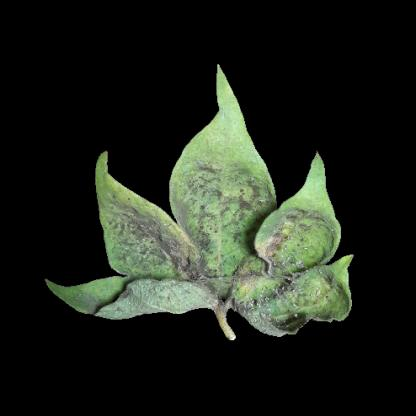curl_stage1: (210, 121, 249, 164), (297, 185, 330, 209)
curl_stage2: (162, 287, 198, 309)
sooty: (192, 171, 267, 272), (113, 210, 183, 285), (259, 274, 308, 304), (290, 209, 331, 241), (67, 293, 111, 314), (242, 301, 275, 328), (270, 228, 292, 258)
